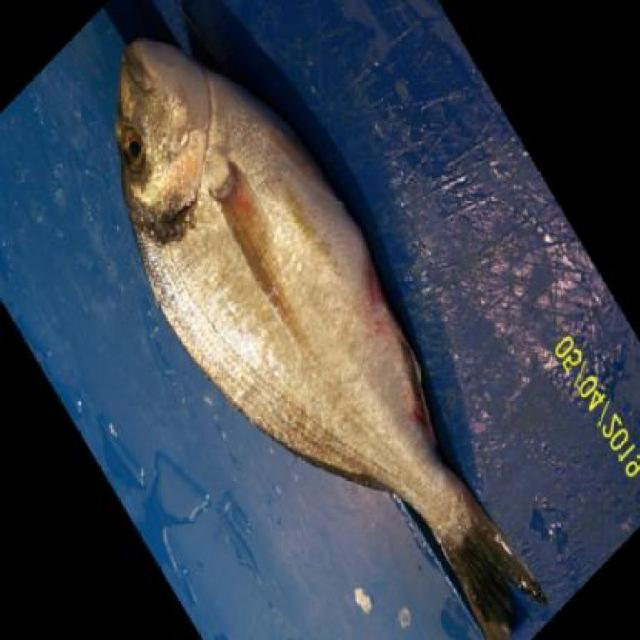Healthy Fish: (106, 32, 554, 639)
